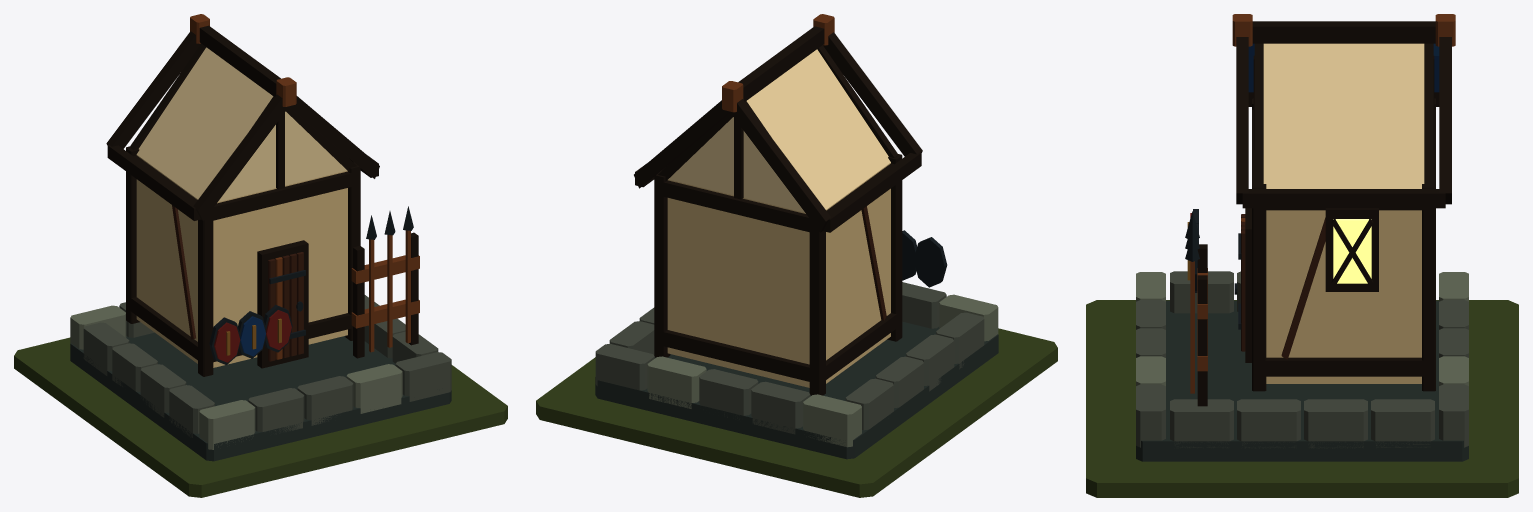
File: armory_t1.glb
3 views of the same model, side by side, from view 1: azimuth 30°, elevation 25°; view 2: azimuth 150°, elevation 25°; view 3: azimuth 270°, elevation 25° (orthographic). The views are drawn at different scales.
Parts seen in each view (by area): view 1: MMR | armory | T01 Architecture.001, MMR | armory | Tier 01 Ground.001; view 2: MMR | armory | T01 Architecture.001, MMR | armory | Tier 01 Ground.001; view 3: MMR | armory | T01 Architecture.001, MMR | armory | Tier 01 Ground.001.
Part boxes in pixels (left/top/right/bottom): MMR | armory | T01 Architecture.001: left=70, top=14, right=451, bottom=461; MMR | armory | Tier 01 Ground.001: left=14, top=337, right=507, bottom=497; MMR | armory | T01 Architecture.001: left=595, top=14, right=998, bottom=459; MMR | armory | Tier 01 Ground.001: left=536, top=328, right=1057, bottom=497; MMR | armory | T01 Architecture.001: left=1136, top=14, right=1468, bottom=461; MMR | armory | Tier 01 Ground.001: left=1086, top=300, right=1518, bottom=497.
Size of the model in its own units: 1.3 by 1.29 by 1.3.
2 materials, 1 textured.
